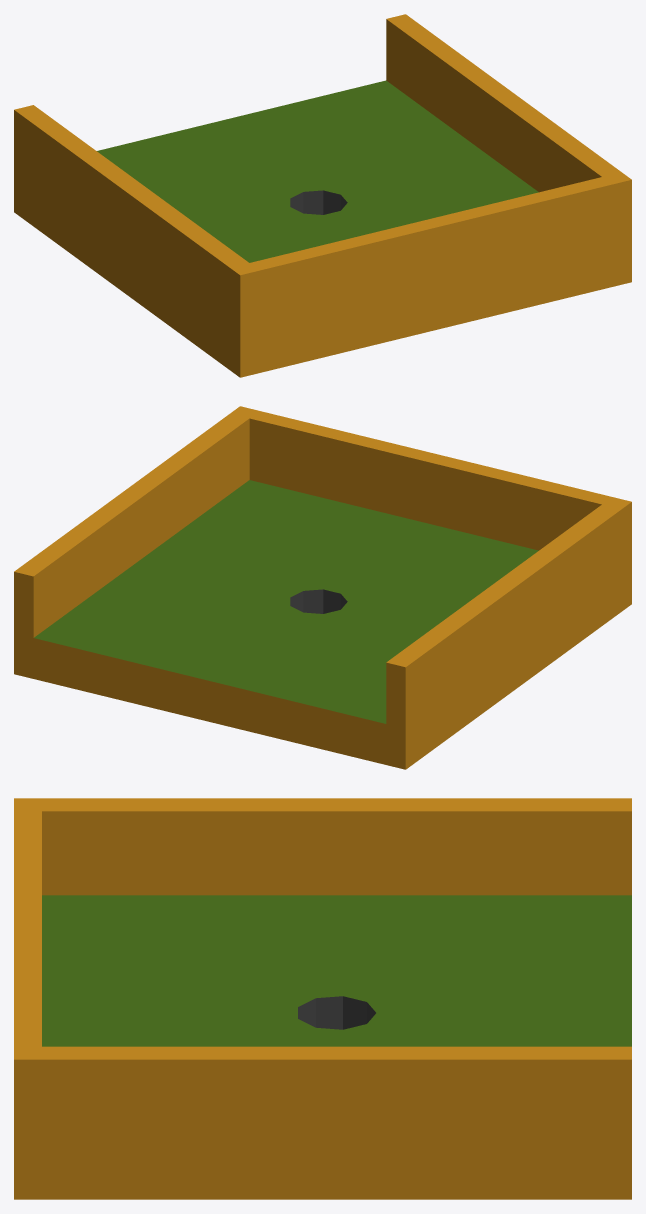
File: Flat_Straight_Hole.fbx
3 renders of one model, top to bottom at view 1: azimuth 30°, elevation 25°; view 2: azimuth 150°, elevation 25°; view 3: azimuth 270°, elevation 25°, orthographic. The views are drawn at different scales.
Visible parts, largest first — view 1: Flat_Straight.004; view 2: Flat_Straight.004; view 3: Flat_Straight.004.
Boxes of the visible parts, <box> form: Flat_Straight.004: <box>14,14,631,377</box>; Flat_Straight.004: <box>14,406,631,769</box>; Flat_Straight.004: <box>14,798,631,1199</box>.
Bounding box in the file's own units: 100 × 25 × 100.
